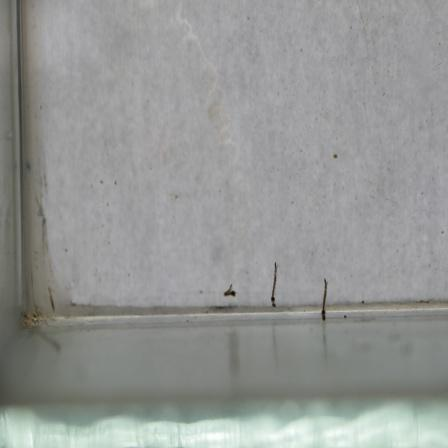Jentik-Nyamuk: (316, 274, 333, 328), (266, 259, 283, 311), (223, 283, 240, 299)
